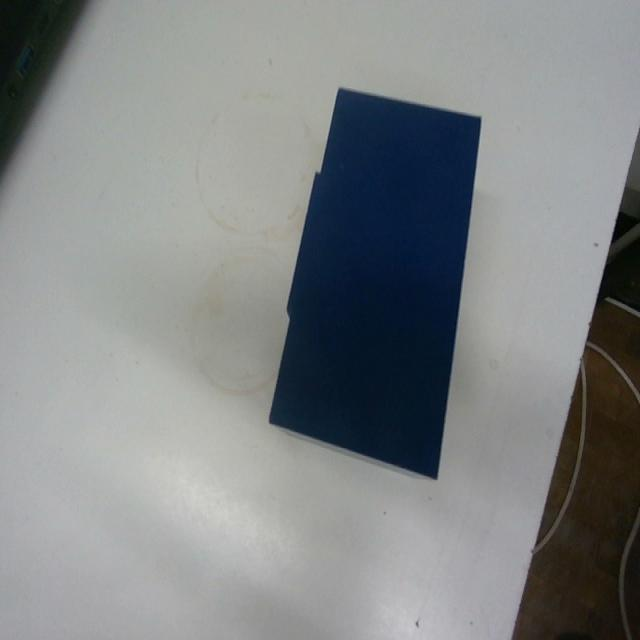Blue Cuboid: (266, 83, 483, 481)
